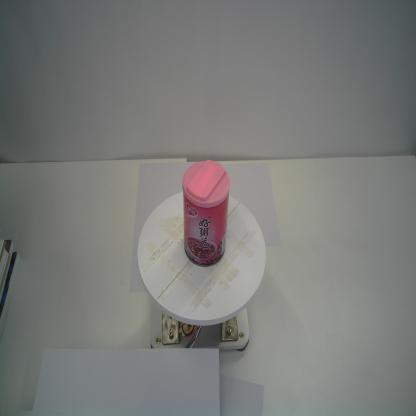Canned Food: (182, 158, 230, 268)
